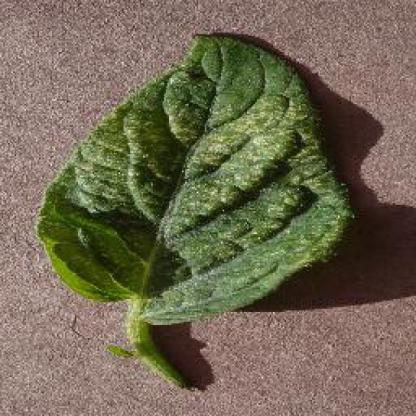Tomato_Spider_Mites: (38, 34, 350, 325)
